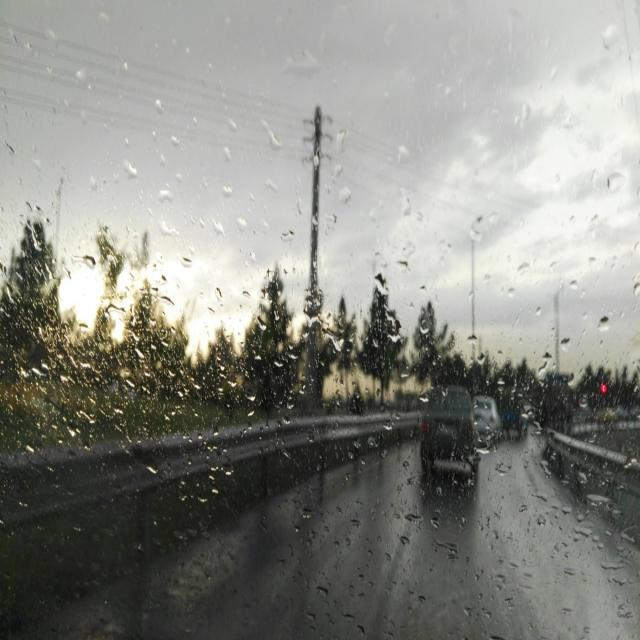car: (422, 379, 478, 487), (500, 387, 534, 438), (473, 398, 501, 447)
